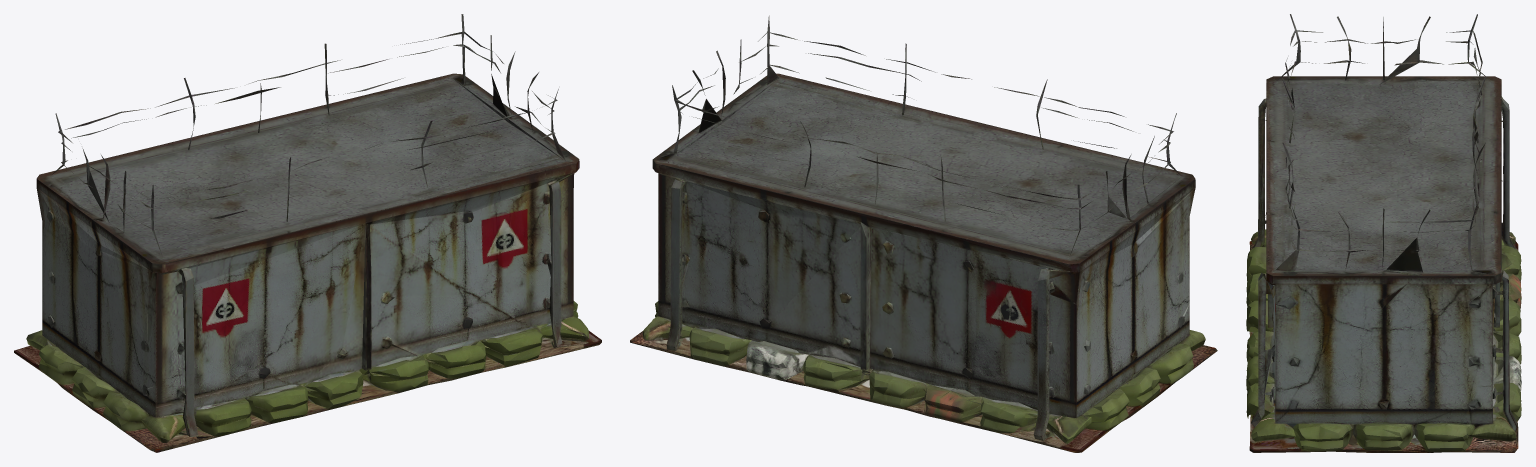
The picture shows the model from 3 angles, left to right: view 1: azimuth 30°, elevation 25°; view 2: azimuth 150°, elevation 25°; view 3: azimuth 270°, elevation 25°; orthographic projection. The views are drawn at different scales.
Size of the model in its own units: 1.9 by 0.9885 by 1.03.
Materials: 1 (1 with a texture image).
